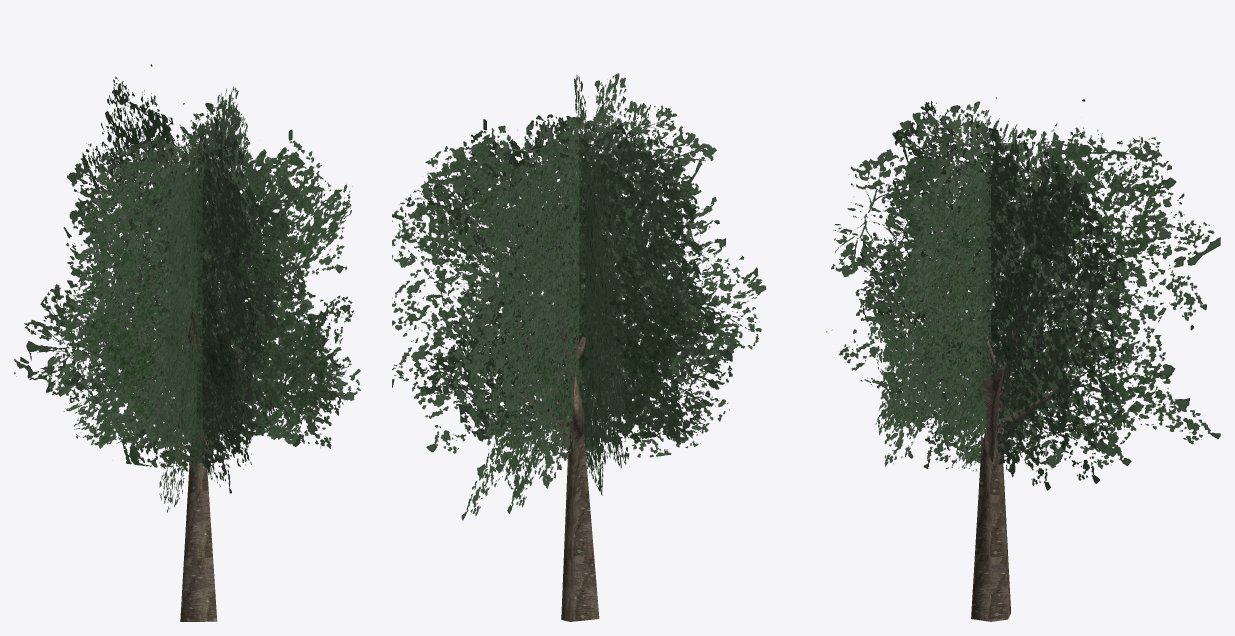
The model's file is tree19.glb.
3 renders of one model, left to right at view 1: azimuth 30°, elevation 25°; view 2: azimuth 150°, elevation 25°; view 3: azimuth 270°, elevation 25°, orthographic. The views are drawn at different scales.
Visible parts, largest first — view 1: tree2; view 2: tree2; view 3: tree2.
Part boxes in pixels (x1,y1,x2,y2): tree2: (14, 64, 360, 621); tree2: (392, 73, 766, 621); tree2: (826, 97, 1220, 621).
Bounding box in the file's own units: 18.9 × 27.49 × 19.96.
Materials: 2 (2 with a texture image).
